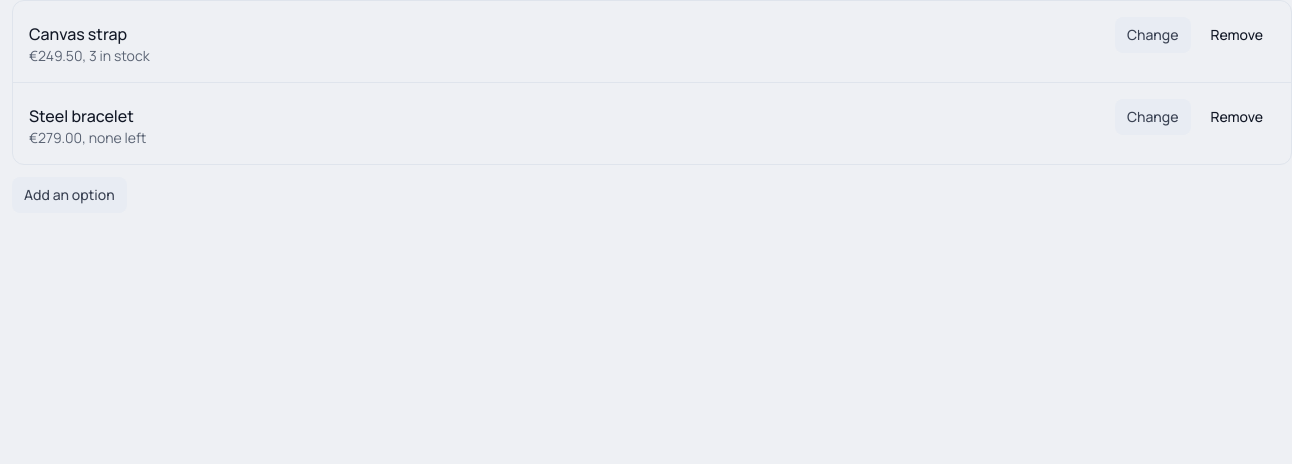
Test: ListingVariants › refuses a price it cannot read, and sends nothing
Click the button "Change" in the row of "3 in stock": (1153, 35) [1115,17,1190,53]
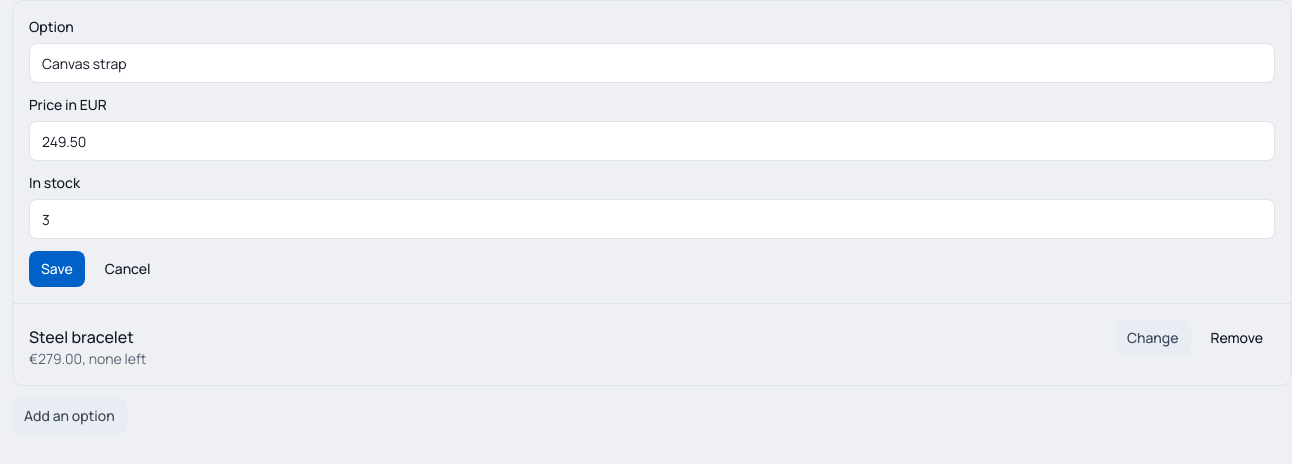
Replace the text in the field labelled "Price in EUR" with "24.999": (652, 141) [29,121,1275,161]
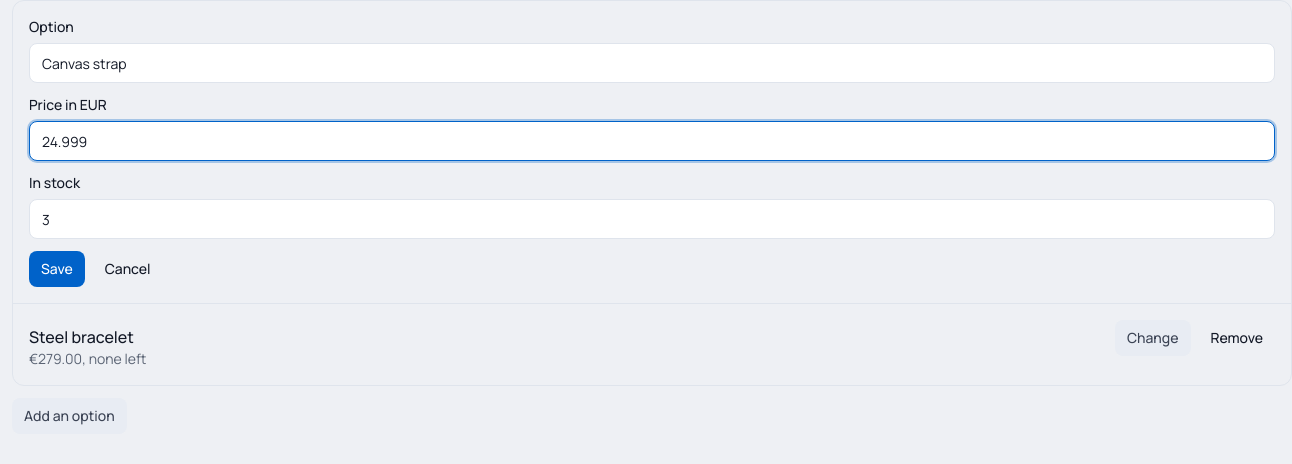
Click the button "Save": (57, 269) [29,251,85,287]
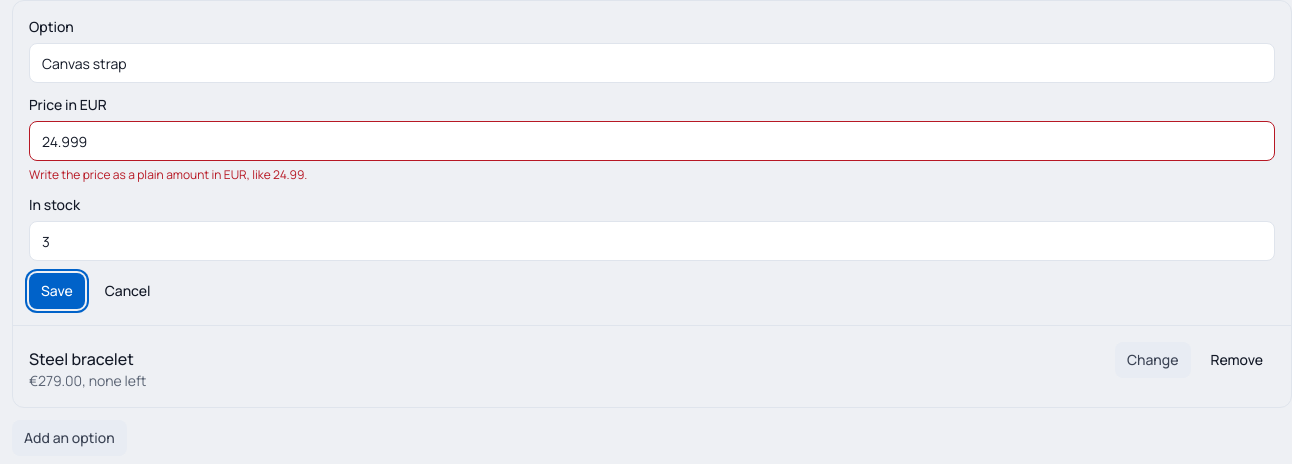
Now the list item "Write the price as a plain amount in EUR, like 24.99." is shown, box [29,166,307,183]
